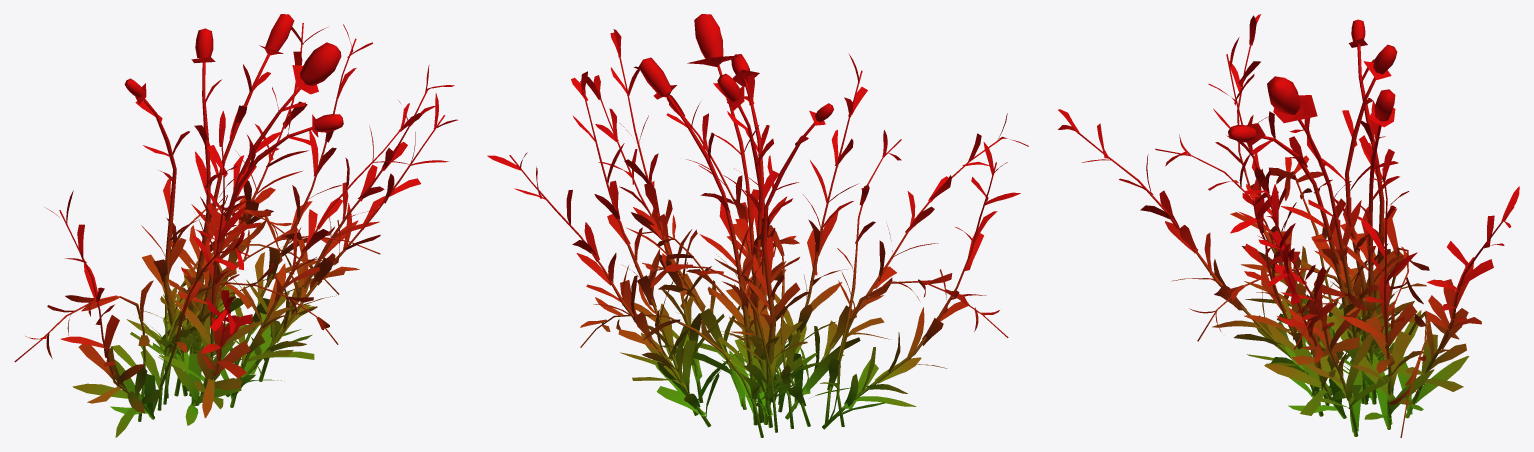
The model's file is Var2_LOD1.fbx.
3 renders of one model, left to right at view 1: azimuth 30°, elevation 25°; view 2: azimuth 150°, elevation 25°; view 3: azimuth 270°, elevation 25°, orthographic. The views are drawn at different scales.
Visible parts, largest first — view 1: _smo0_Var2_LOD1; view 2: _smo0_Var2_LOD1; view 3: _smo0_Var2_LOD1.
Part boxes in pixels (left/top/right/bottom): _smo0_Var2_LOD1: left=14, top=14, right=457, bottom=437; _smo0_Var2_LOD1: left=487, top=14, right=1028, bottom=437; _smo0_Var2_LOD1: left=1058, top=14, right=1519, bottom=437.
Size of the model in its own units: 29.42 by 23.54 by 26.01.
